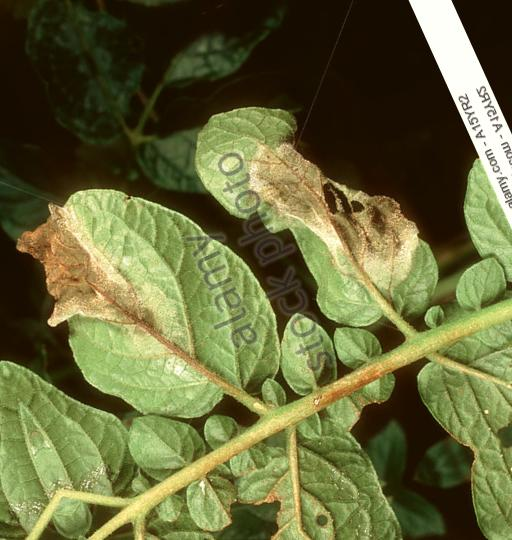Tomato leaf late blight: (0, 126, 303, 461), (169, 48, 459, 385)
